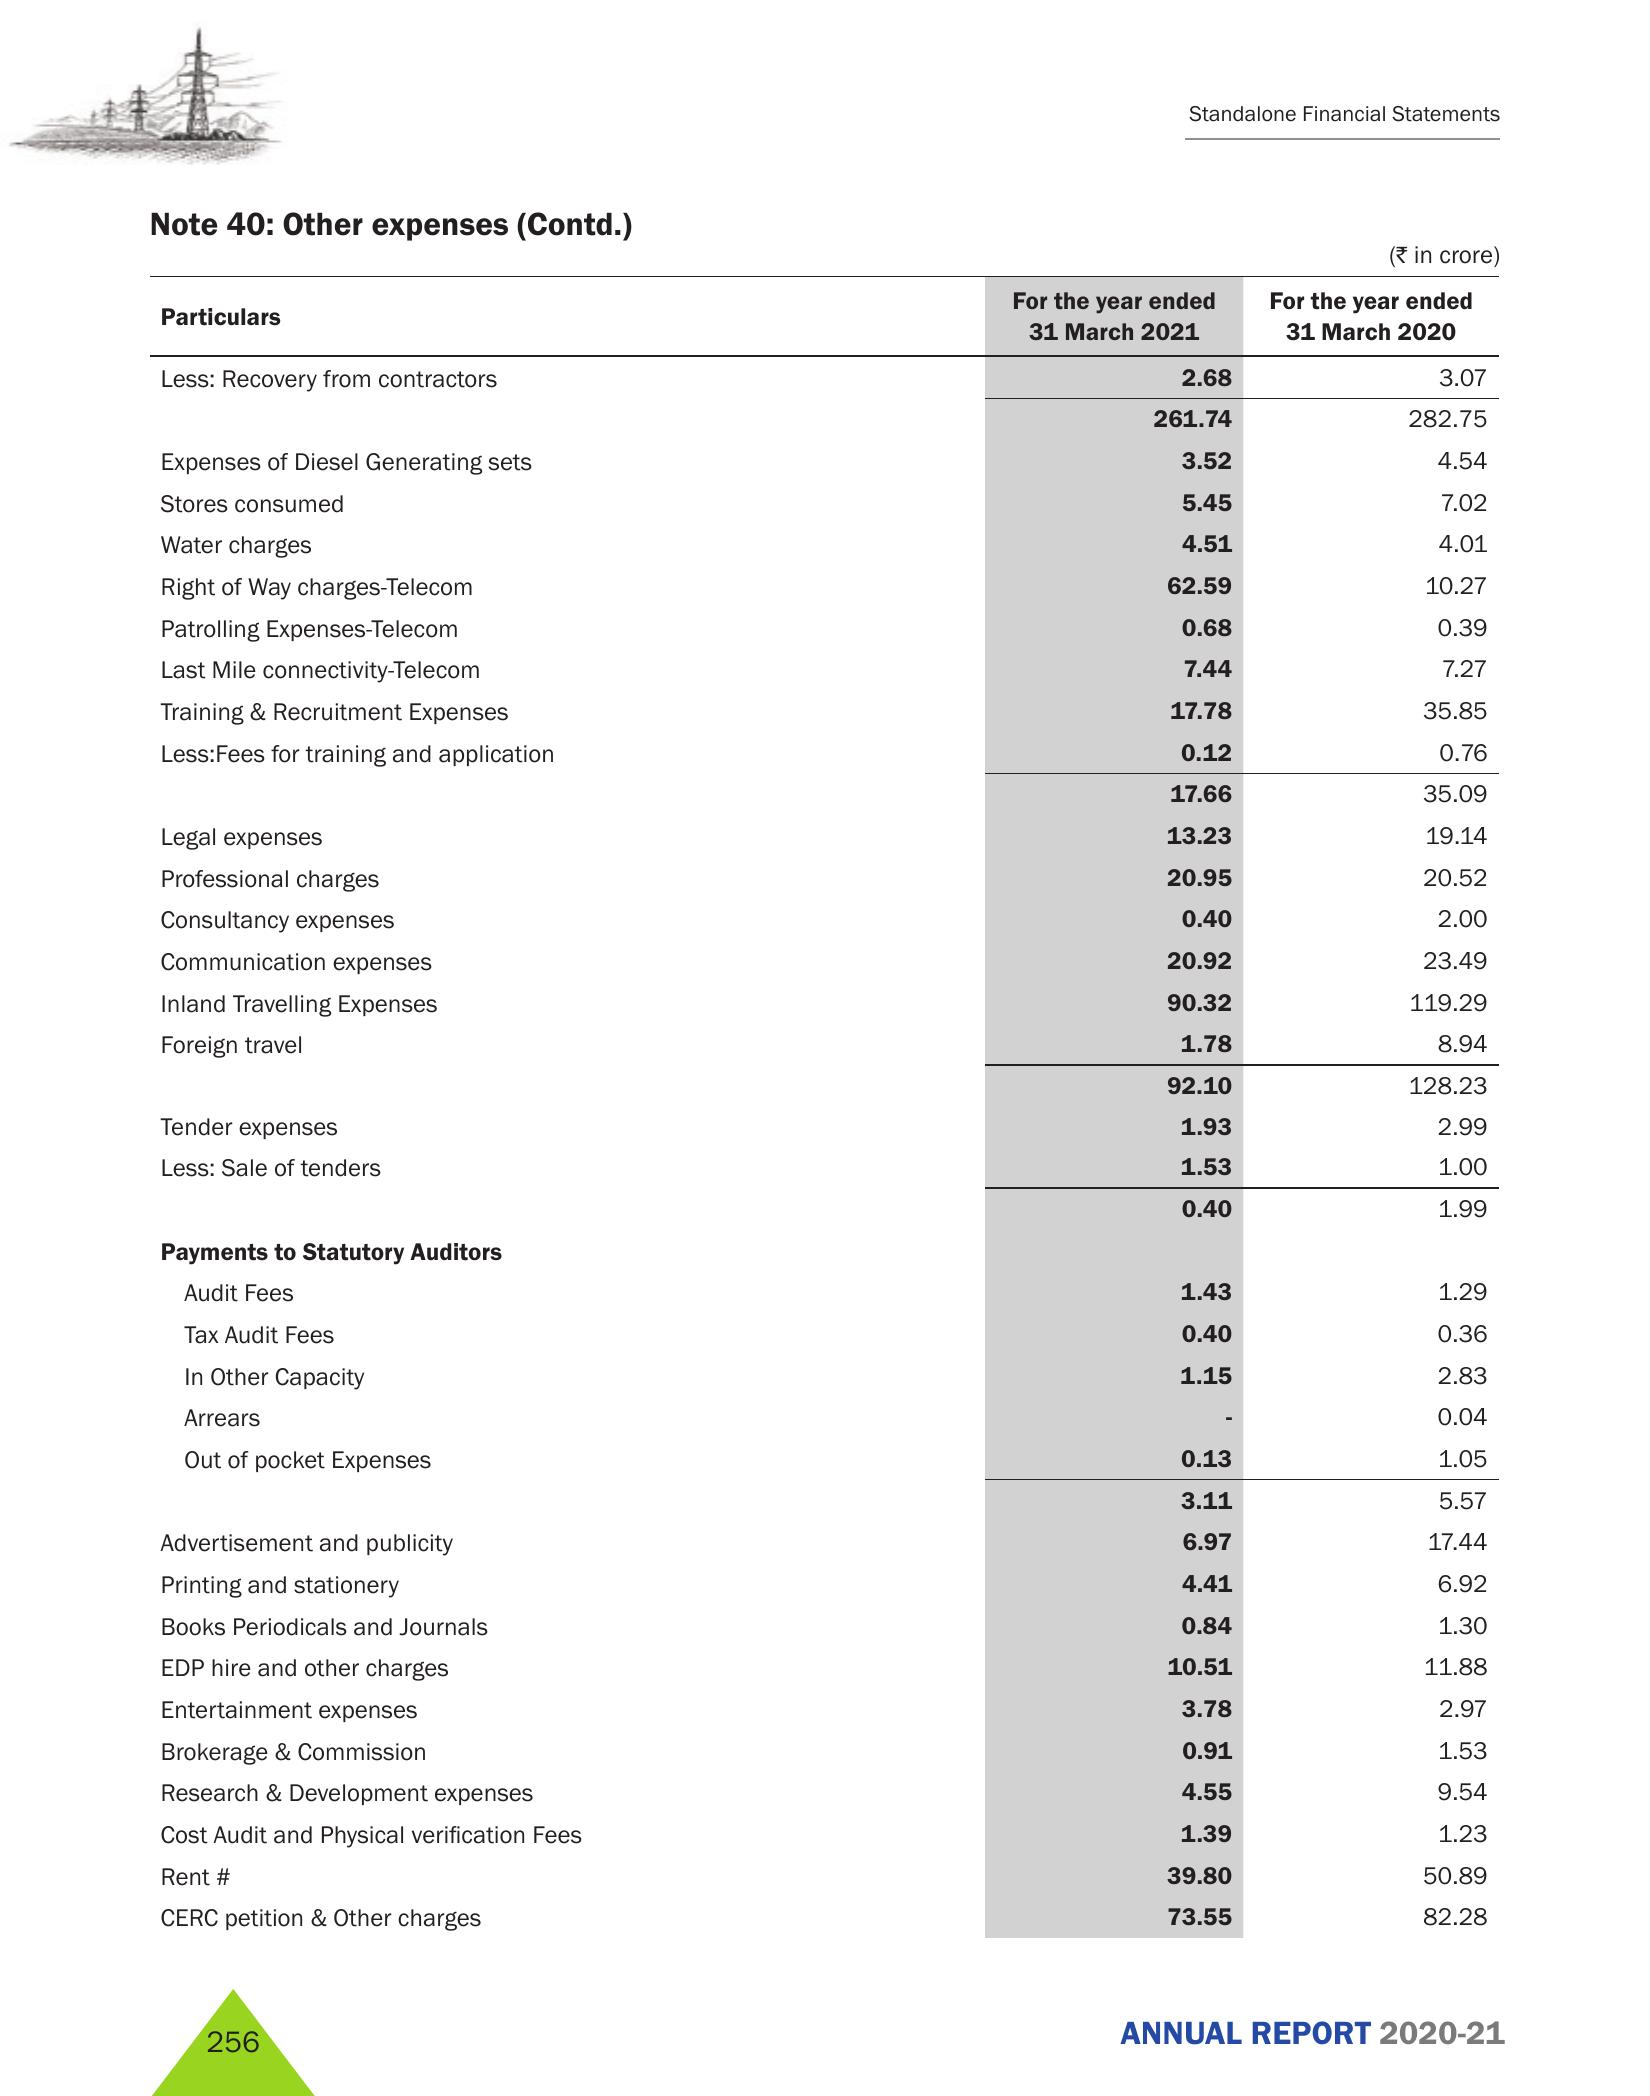Footer: (0, 1968, 1650, 2096)
Header: (0, 0, 1650, 184)
Table: (134, 277, 1521, 1950)
